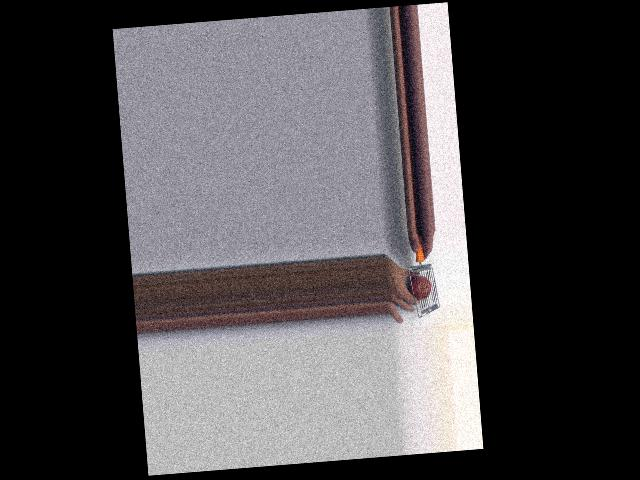tomato: (407, 274, 431, 300)
